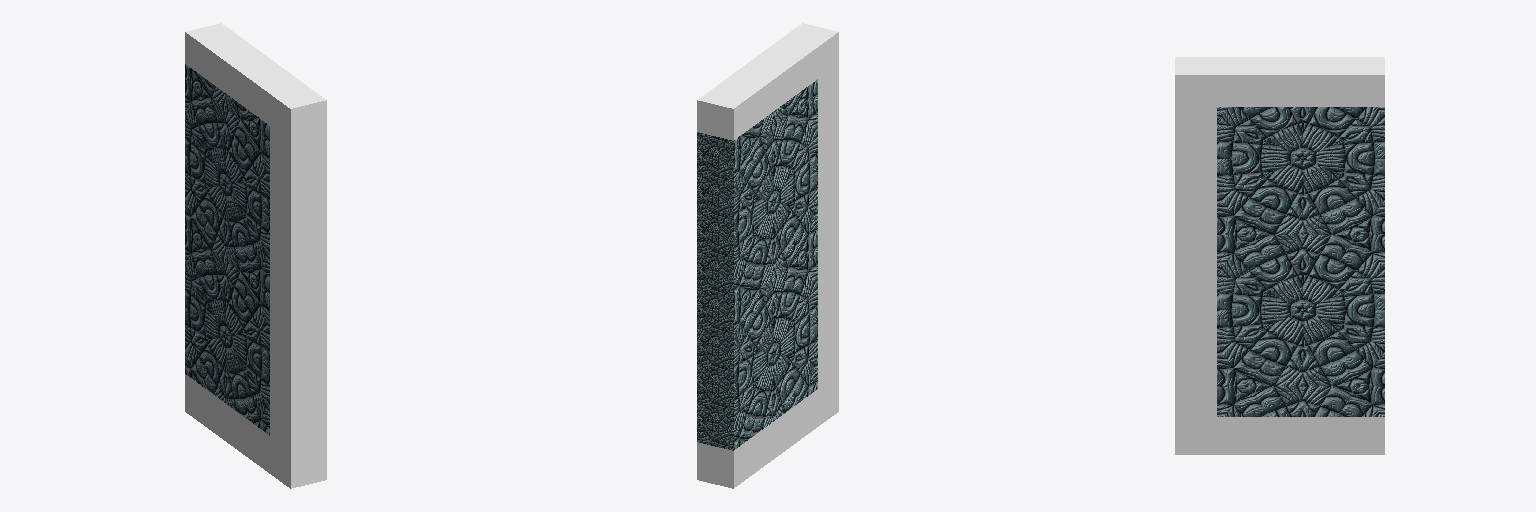
3 views of the same model, side by side, from view 1: azimuth 30°, elevation 25°; view 2: azimuth 150°, elevation 25°; view 3: azimuth 270°, elevation 25° (orthographic).
Parts seen in each view (by area): view 1: Gate; view 2: Gate; view 3: Gate.
Part boxes in pixels (x1,y1,x2,y2): Gate: (185, 23, 326, 488); Gate: (697, 23, 838, 488); Gate: (1175, 57, 1384, 454).
Bounding box in the file's own units: 0.5 × 5 × 2.51.
Materials: 2 (1 with a texture image).